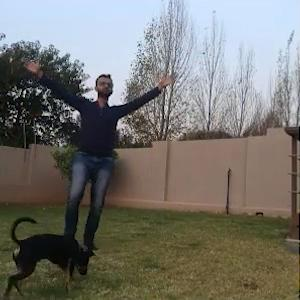takeoff: (0, 47, 177, 253)
